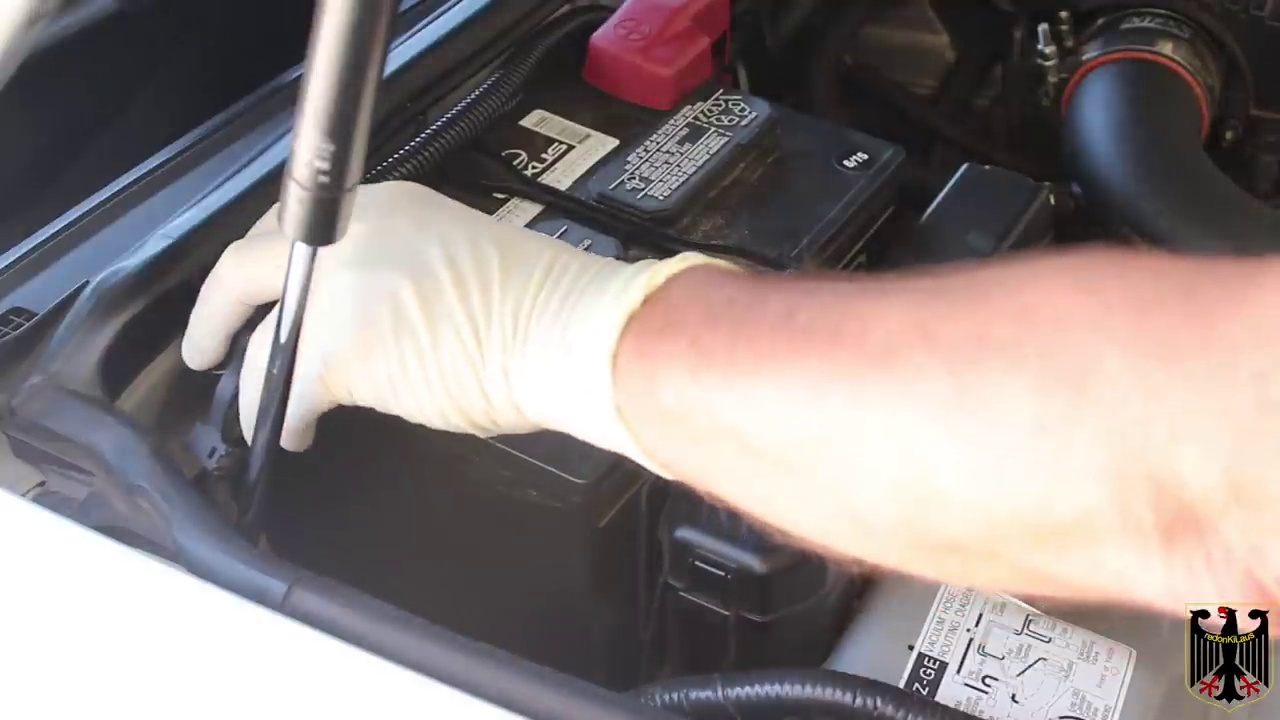battery: (265, 2, 911, 517)
pos_connected: (572, 1, 768, 118)
